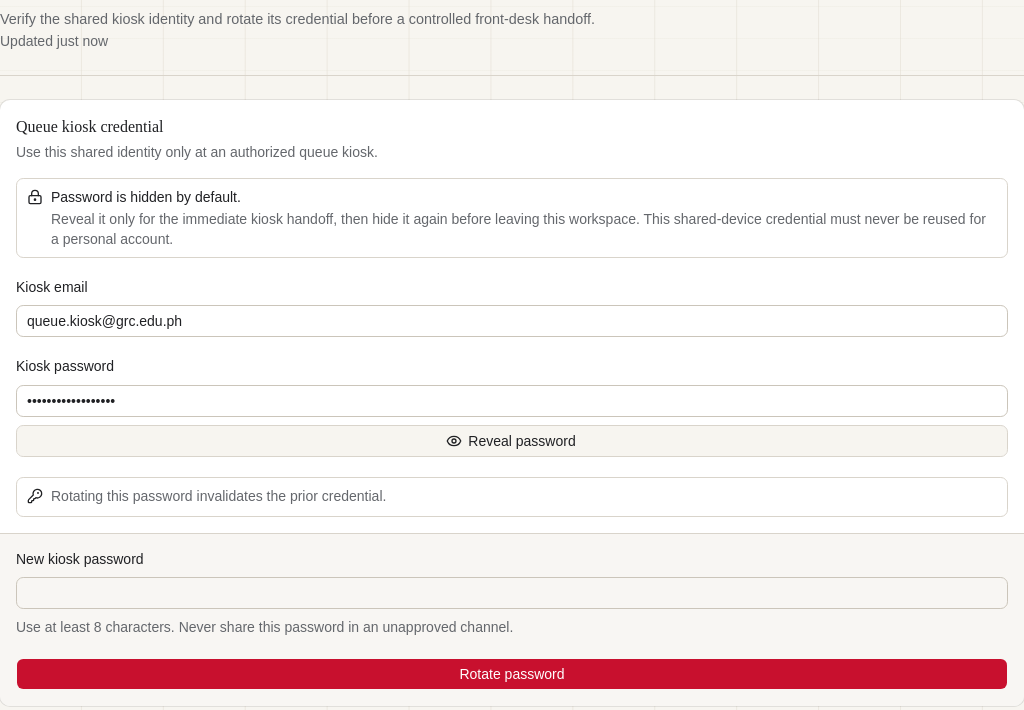
QueueKioskAccessWorkspace › warns that active kiosks sign out and makes one rotation request while pending
This screenshot has width=1024, height=710.
Expected: the password field labelled "Kiosk password" is shown, [16,385,1008,417]
Type "rotated-password" into the password field labelled "New kiosk password" at coordinates (512, 593), box [16,577,1008,609]
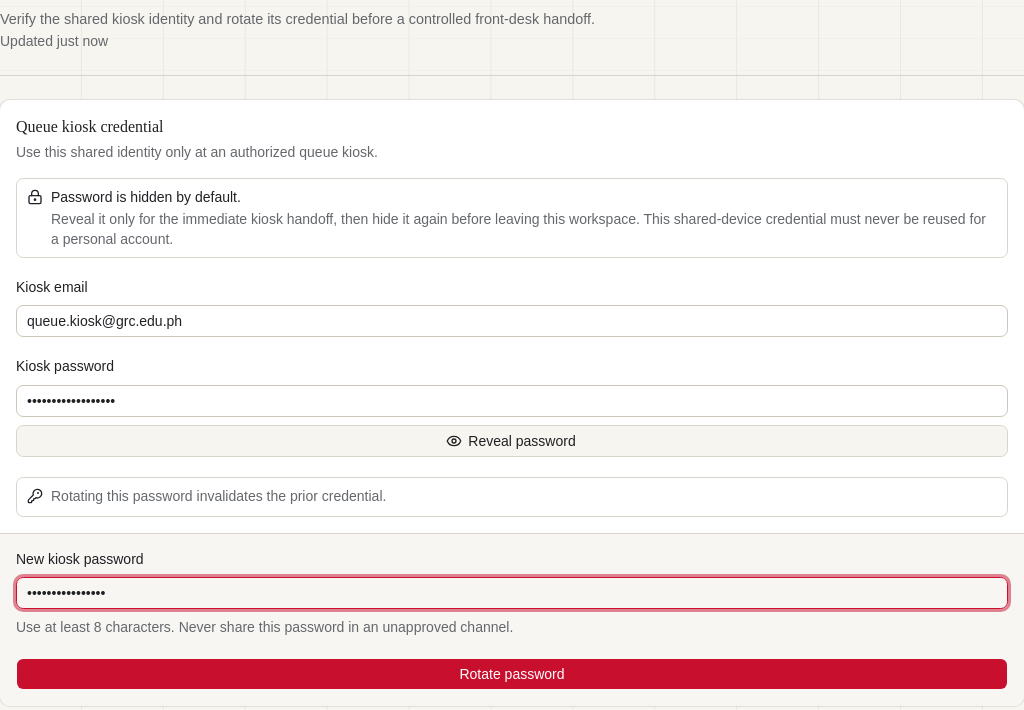
Click the button "Rotate password" at coordinates (512, 674), box [16,658,1008,690]
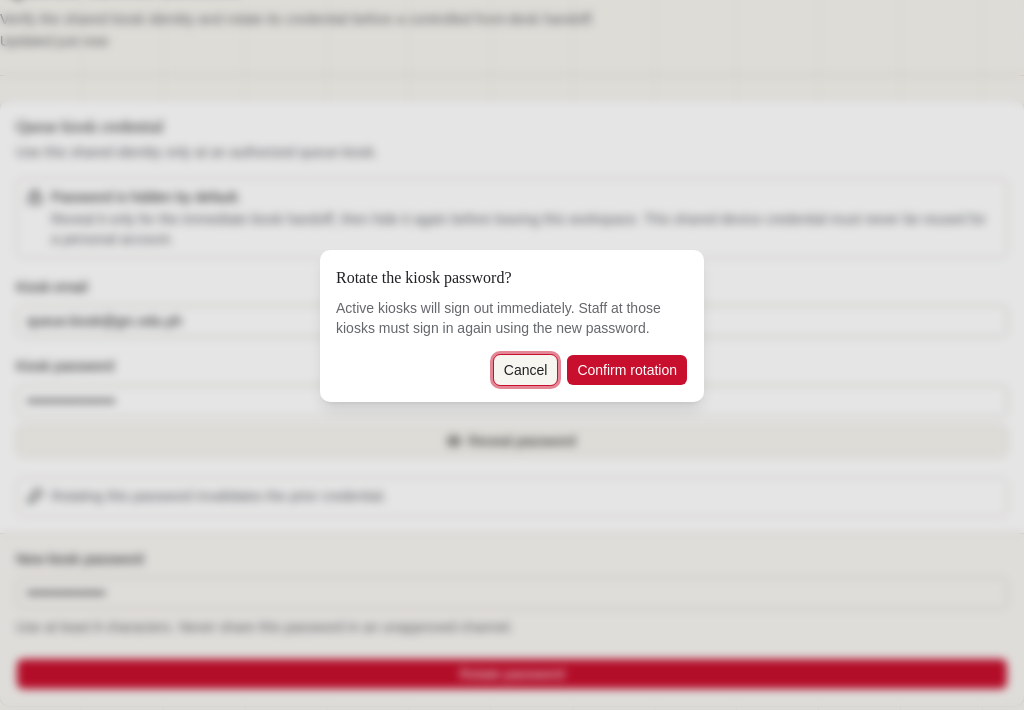
Result: the dialog shows "Active kiosks will sign out" at [336,300,661,336]
Click the button "Confirm rotation" at coordinates (627, 370), box [566,354,688,386]
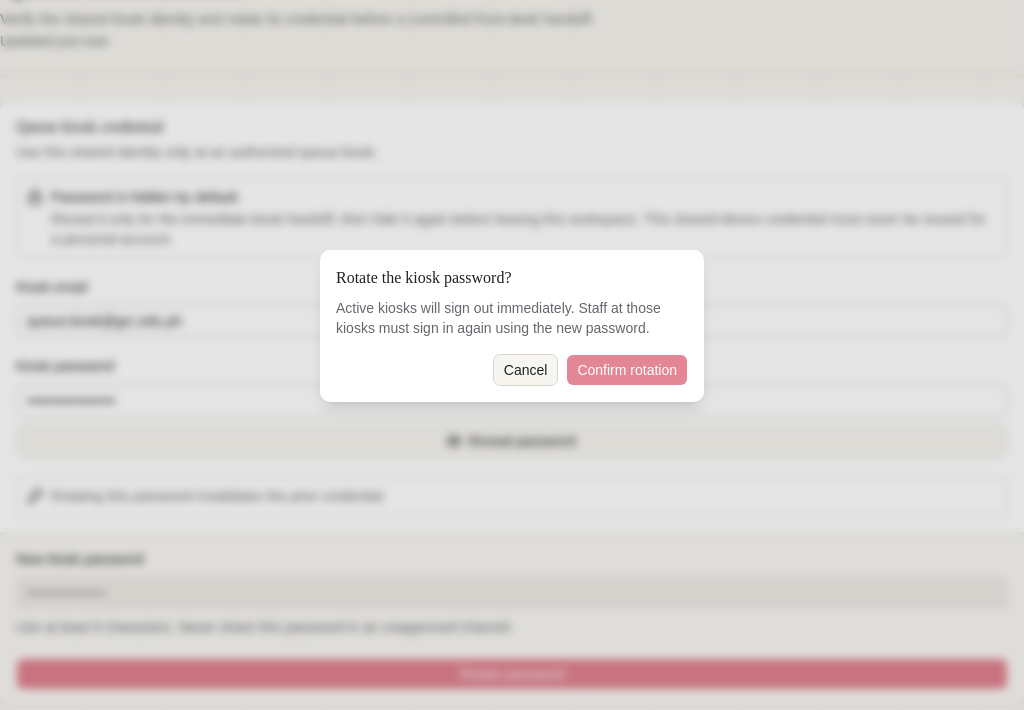
Click the button "Confirm rotation" at coordinates (627, 370), box [566,354,688,386]
(page scrolled)
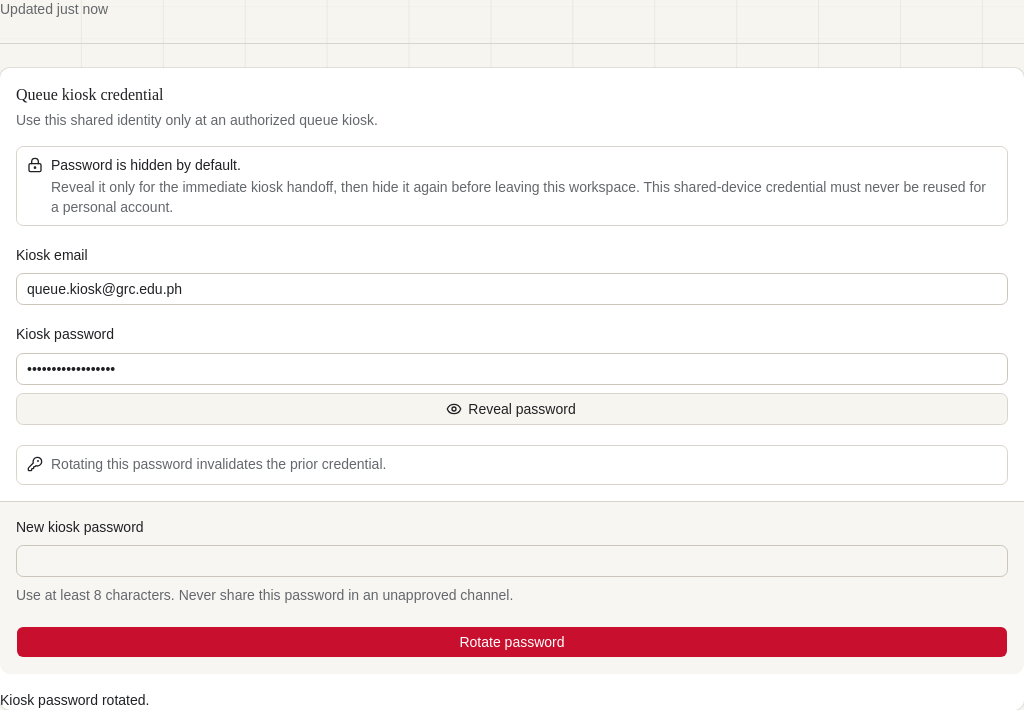
Result: the text "Kiosk password rotated." is shown at [0,692,149,708]
